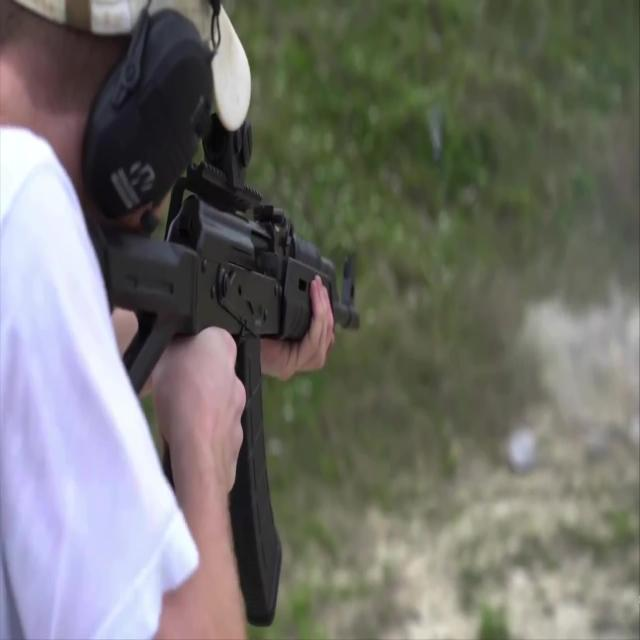Weapon: (58, 81, 366, 632)
